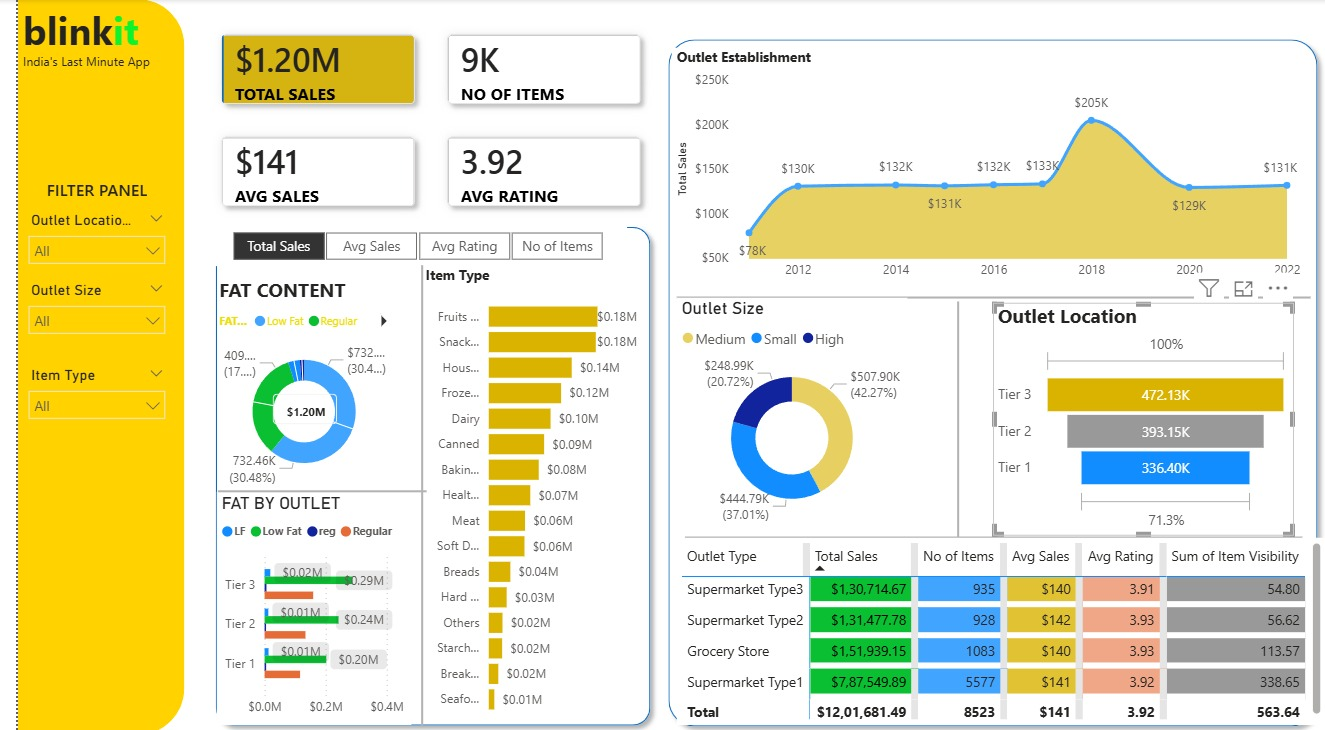

Layout of this report page (visuals, bound fields, positions):
{"tool":"powerbi","page":{"name":"Page 1","canvas":[1280,720],"ordinal":0},"visuals":[{"type":"shape","box":[0,0,162.9,720],"z":0},{"type":"textbox","box":[238.8,638.8,156.2,81.2],"z":1000},{"type":"textbox","box":[0,0,153.6,60.7],"z":2000},{"type":"textbox","box":[0,46.7,384,110],"z":3000},{"type":"cardVisual","fields":{"Data":["BlinkIT Grocery Data.Total Sales","BlinkIT Grocery Data.No of Items","BlinkIT Grocery Data.Avg Sales","BlinkIT Grocery Data.Avg Rating"]},"box":[171.2,10,456.2,211.2],"z":4000},{"type":"shape","box":[184.3,214.3,442.9,505.7],"z":5000},{"type":"slicer","fields":{"Values":["matrics 2.matrics"]},"box":[184.3,221.4,411.4,40],"z":6000},{"type":"donutChart","title":"FAT CONTENT","fields":{"Y":["BlinkIT Grocery Data.Total Sales","Sum(BlinkIT Grocery Data.Sales)"],"Category":["BlinkIT Grocery Data.Item Fat Content"]},"box":[191.7,271.4,176.2,211.9],"z":7000},{"type":"cardVisual","fields":{"Data":["BlinkIT Grocery Data.Total Sales"]},"box":[232.1,369.1,97.5,64.2],"z":8000},{"type":"clusteredBarChart","title":"FAT BY OUTLET","fields":{"Y":["BlinkIT Grocery Data.Total Sales"],"Category":["BlinkIT Grocery Data.Outlet Location Type"],"Series":["BlinkIT Grocery Data.Item Fat Content"]},"box":[194.3,482.9,190,227.1],"z":9000},{"type":"shape","box":[167.1,260,455.7,451.4],"z":10000},{"type":"shape","box":[195.7,411.4,204.3,141.4],"z":11000},{"type":"barChart","title":"Item Type","fields":{"Y":["BlinkIT Grocery Data.Total Sales"],"Category":["BlinkIT Grocery Data.Item Type"]},"box":[394.3,260,217.1,450],"z":12000},{"type":"shape","box":[627.1,30,652.9,690],"z":13000},{"type":"lineChart","title":" Outlet Establishment ","fields":{"Category":["BlinkIT Grocery Data.Outlet Establishment Year"],"Y":["BlinkIT Grocery Data.Total Sales"]},"box":[640,47.1,620,235.7],"z":14000},{"type":"shape","box":[644.3,221.4,620,141.4],"z":15000},{"type":"donutChart","title":"Outlet Size","fields":{"Y":["BlinkIT Grocery Data.Total Sales"],"Category":["BlinkIT Grocery Data.Outlet Size"]},"box":[644.3,292.9,225.7,225.7],"z":16000},{"type":"funnel","title":"Outlet Location ","fields":{"Y":["Sum(BlinkIT Grocery Data.Sales)"],"Category":["BlinkIT Grocery Data.Outlet Location Type"]},"box":[954.3,297.1,294.3,227.1],"z":17000},{"type":"shape","box":[644.3,455.7,620,141.4],"z":18000},{"type":"shape","box":[888.6,295.7,61.4,231.4],"z":19000},{"type":"pivotTable","fields":{"Values":["BlinkIT Grocery Data.Total Sales","BlinkIT Grocery Data.No of Items","BlinkIT Grocery Data.Avg Sales","BlinkIT Grocery Data.Avg Rating","Sum(BlinkIT Grocery Data.Item Visibility)"],"Rows":["BlinkIT Grocery Data.Outlet Type"]},"box":[644.3,527.1,635.7,182.9],"z":20000},{"type":"slicer","fields":{"Values":["BlinkIT Grocery Data.Outlet Location Type"]},"box":[0,202.9,154.3,78.6],"z":21000},{"type":"slicer","fields":{"Values":["BlinkIT Grocery Data.Outlet Size"]},"box":[0,271.4,154.3,78.6],"z":22000},{"type":"slicer","fields":{"Values":["BlinkIT Grocery Data.Item Type"]},"box":[0,354.3,154.3,78.6],"z":23000},{"type":"textbox","box":[22.9,170,108.6,65.7],"z":24000}]}

Visuals, with their boxes in screenshot pixels (x1, y1, x2, y2), scaled from the page's 1280x720 canvas onto the 1325x730 screenshot:
shape: locate(0, 0, 169, 729)
textbox: locate(247, 648, 409, 729)
textbox: locate(0, 0, 159, 62)
textbox: locate(0, 47, 398, 159)
cardVisual - BlinkIT Grocery Data.Total Sales x BlinkIT Grocery Data.No of Items: locate(177, 10, 649, 224)
shape: locate(191, 217, 649, 729)
slicer - matrics 2.matrics: locate(191, 224, 617, 265)
"FAT CONTENT" donutChart: locate(198, 275, 381, 490)
cardVisual - BlinkIT Grocery Data.Total Sales: locate(240, 374, 341, 439)
"FAT BY OUTLET" clusteredBarChart: locate(201, 490, 398, 720)
shape: locate(173, 264, 645, 721)
shape: locate(203, 417, 414, 560)
"Item Type" barChart: locate(408, 264, 633, 720)
shape: locate(649, 30, 1324, 729)
" Outlet Establishment " lineChart: locate(662, 48, 1304, 287)
shape: locate(667, 224, 1309, 368)
"Outlet Size" donutChart: locate(667, 297, 901, 526)
"Outlet Location " funnel: locate(988, 301, 1292, 531)
shape: locate(667, 462, 1309, 605)
shape: locate(920, 300, 983, 534)
pivotTable - BlinkIT Grocery Data.Total Sales x BlinkIT Grocery Data.No of Items: locate(667, 534, 1324, 720)
slicer - BlinkIT Grocery Data.Outlet Location Type: locate(0, 206, 160, 285)
slicer - BlinkIT Grocery Data.Outlet Size: locate(0, 275, 160, 355)
slicer - BlinkIT Grocery Data.Item Type: locate(0, 359, 160, 439)
textbox: locate(24, 172, 136, 239)
